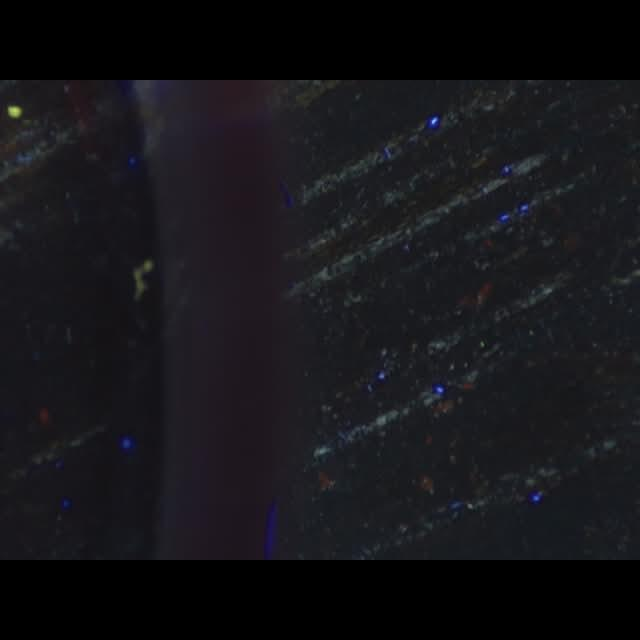Fibre: (130, 258, 156, 298)
microbeads: (4, 101, 26, 121)
